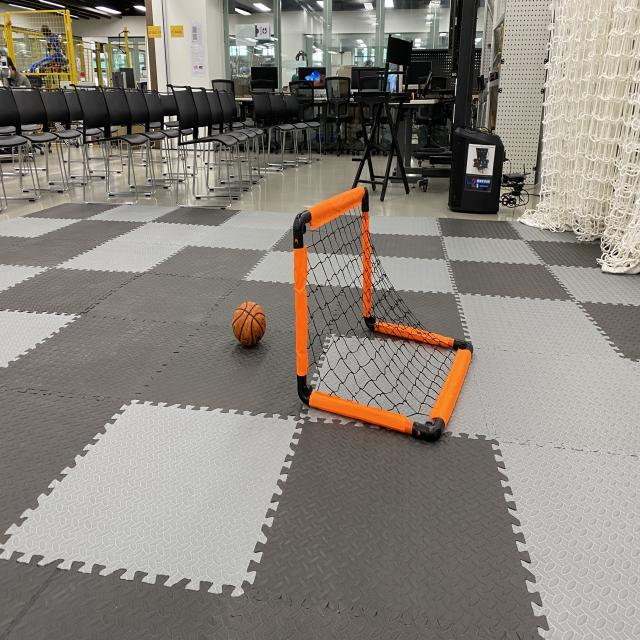ball: (230, 296, 270, 352)
gate: (289, 179, 479, 451)
